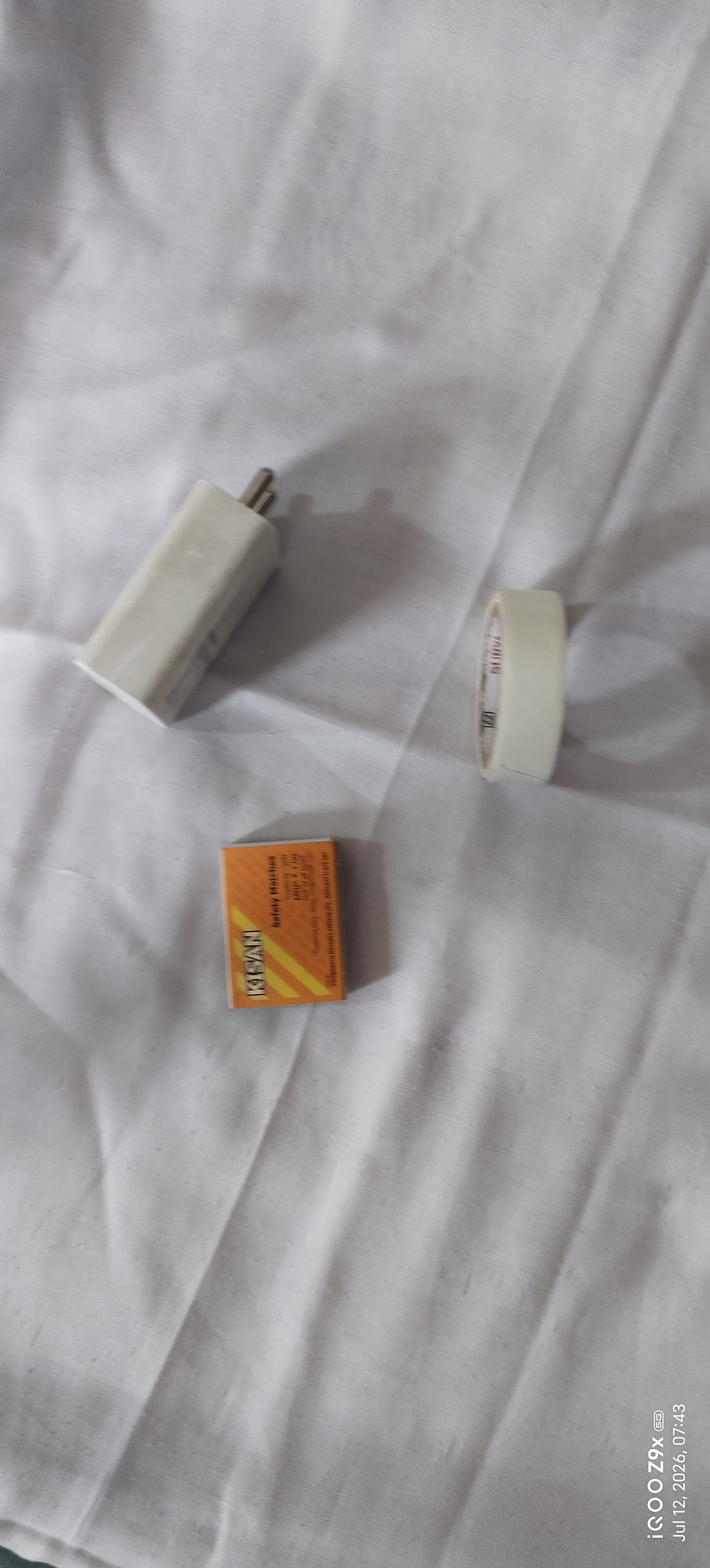charger: (52, 446, 342, 727)
matchbox: (203, 814, 368, 1029)
tape_roll: (449, 542, 597, 841)
